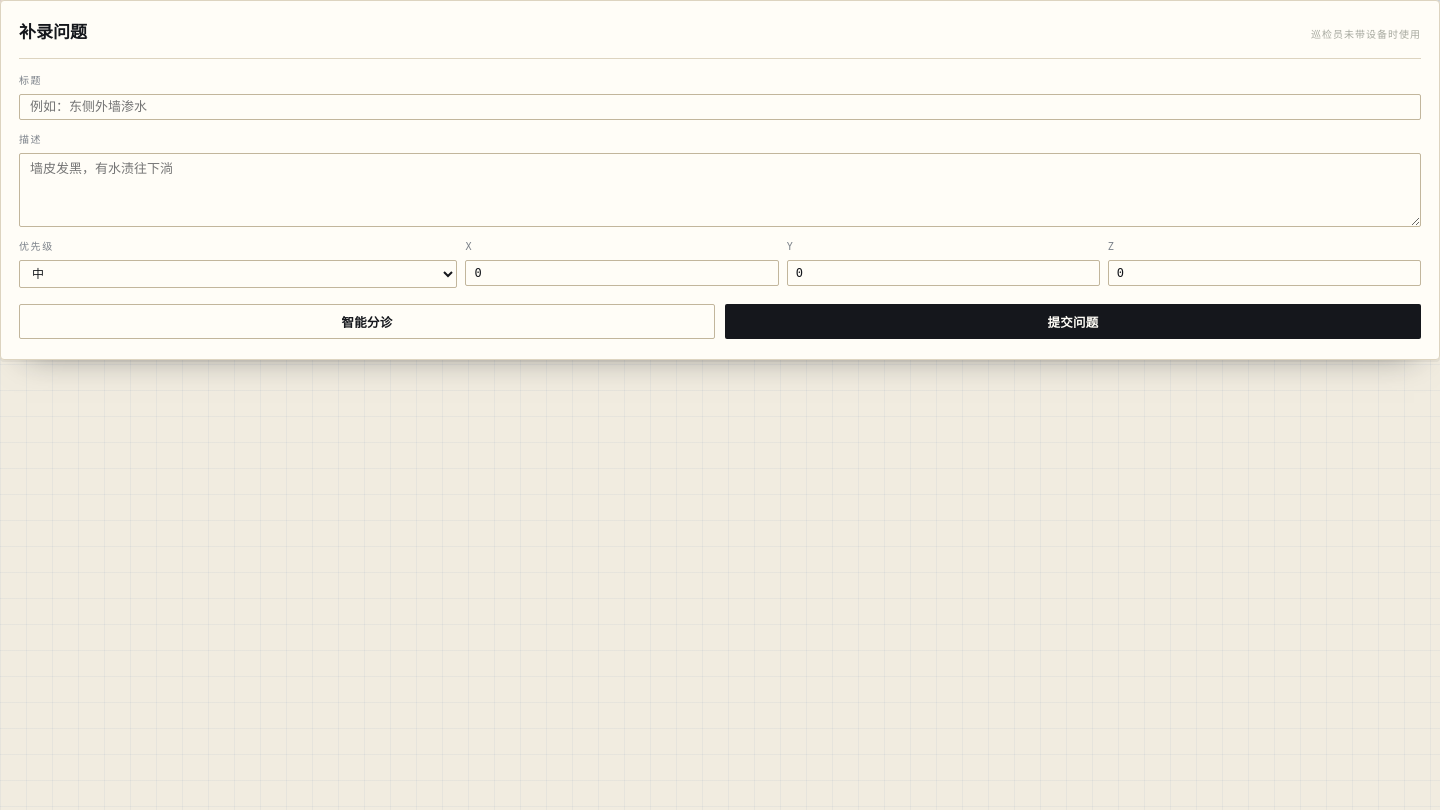
Test: NewIssuePanel 的智能分诊 › 标题为空时不做分诊，并给出提示
Click the button "智能分诊" at (367, 322), box [19,304,715,339]
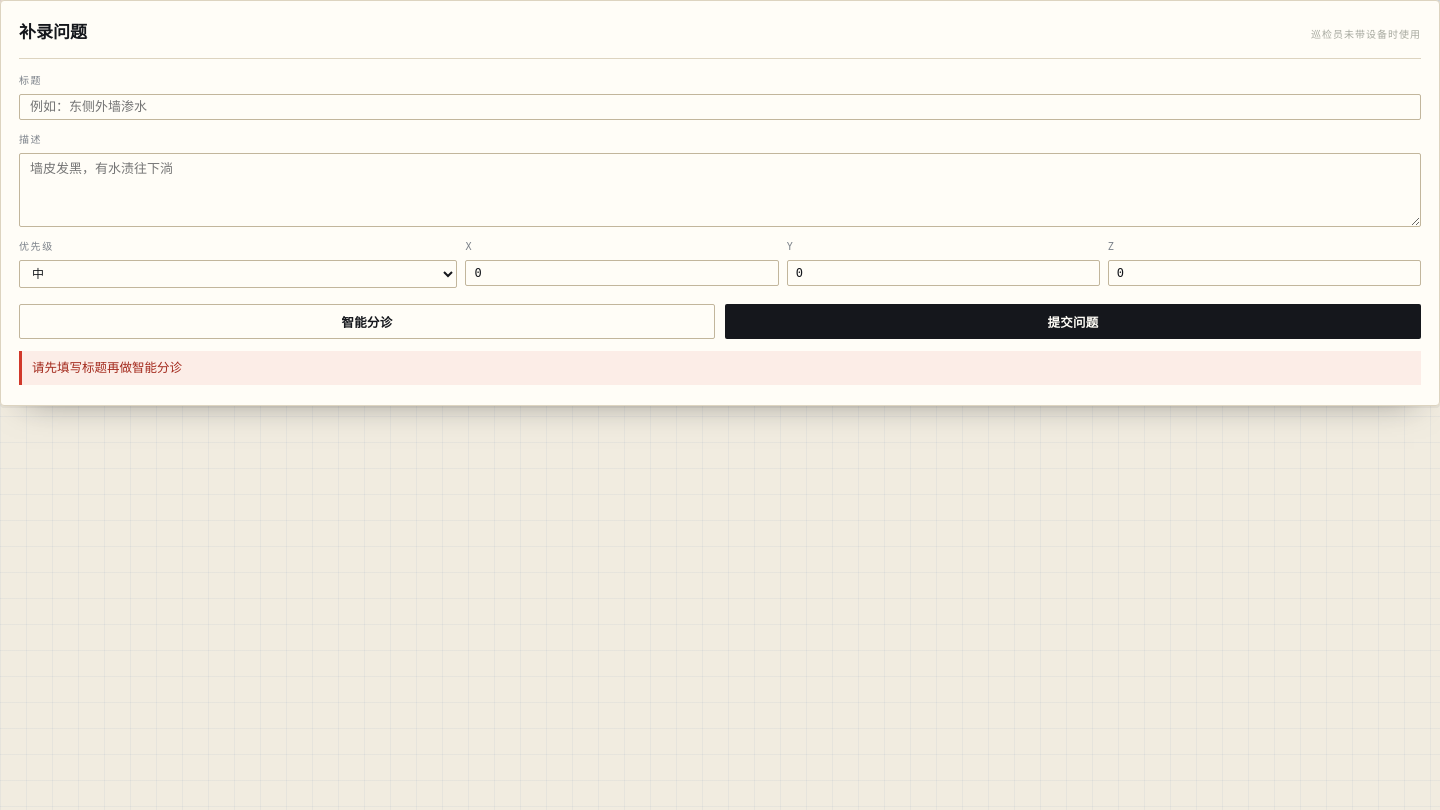
expect the text "请先填写标题再做智能分诊" is shown: met, box [19,351,1421,385]
